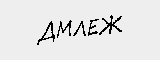Д: (32, 19, 56, 46)
Е: (84, 18, 100, 39)
Ж: (100, 12, 123, 37)
Л: (72, 17, 86, 40)
М: (55, 17, 72, 42)
